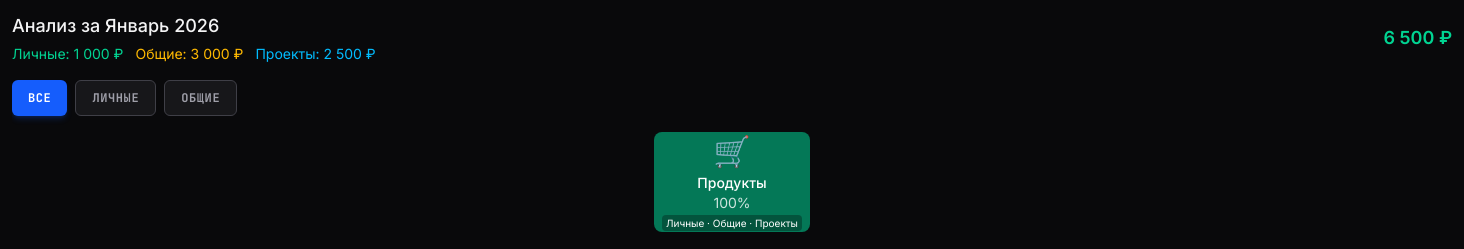
Test: AnalysisDashboard › rendering › switches analysis totals between all, personal, and shared scopes
Expected: the text with test id "analysis-header-total" reads "6 500 ₽", [1384,27,1452,48]
Expected: the text with test id "analysis-header-shared" reads "Общие: 3 000 ₽", [135,44,243,64]
Step 1. Click the button "Личные" → click(116, 98), box [75,80,156,116]
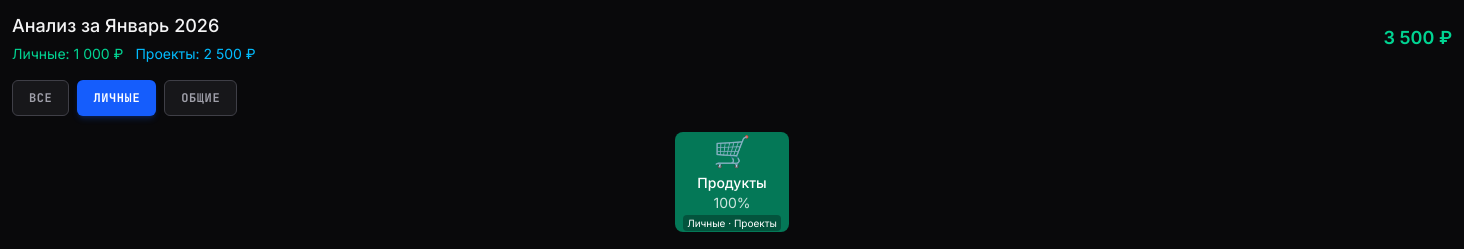
Now the text with test id "analysis-header-total" reads "3 500 ₽", box [1384,27,1452,48]
Now the text with test id "analysis-header-shared" is gone
Step 2. Click the button "Общие" → click(201, 98), box [164,80,237,116]
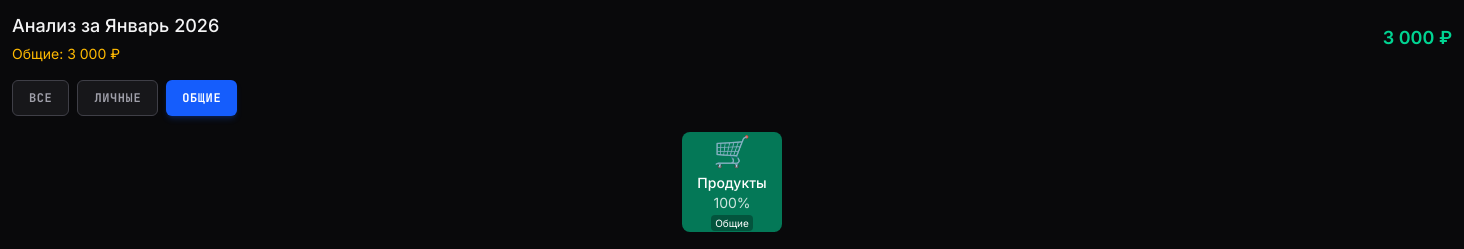
Now the text with test id "analysis-header-total" reads "3 000 ₽", box [1383,27,1452,48]
Now the text with test id "analysis-header-shared" reads "Общие: 3 000 ₽", box [12,44,120,64]
Now the text with test id "analysis-header-personal" is gone
